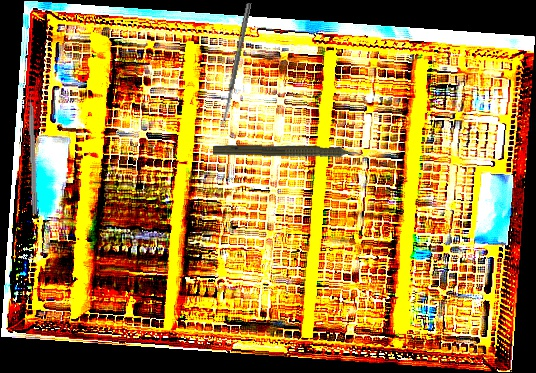Chopper: (27, 82, 45, 216)
Handpiece: (212, 142, 370, 164)
Surgical Spoon: (219, 2, 252, 128)
